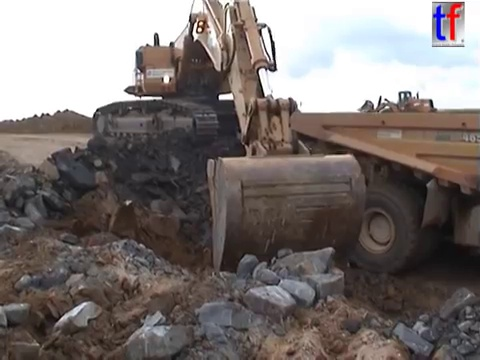excavator: (87, 1, 370, 292)
truck: (284, 107, 480, 279)
wheel loader: (355, 88, 439, 122)
